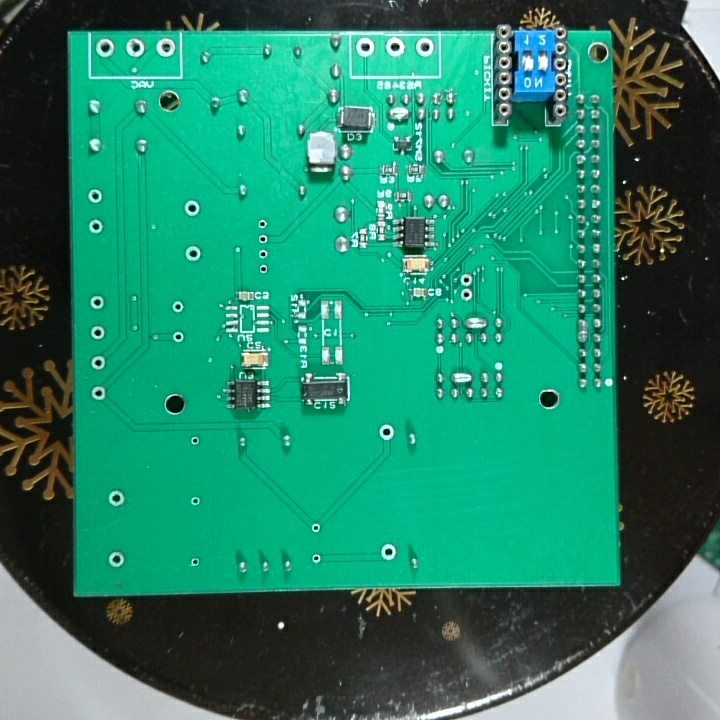F: (383, 36, 407, 59), (154, 37, 177, 60), (94, 36, 116, 60), (124, 36, 146, 60), (414, 35, 436, 59), (355, 37, 377, 59), (106, 549, 127, 571), (106, 488, 127, 509), (181, 198, 202, 219), (378, 540, 397, 563), (183, 243, 203, 264), (377, 423, 397, 443), (86, 216, 105, 237), (84, 188, 105, 205), (90, 384, 108, 403), (89, 354, 106, 373), (89, 323, 106, 342), (88, 293, 105, 312), (458, 286, 474, 303), (169, 298, 185, 315), (170, 329, 185, 346), (458, 272, 475, 286), (188, 433, 202, 449), (309, 520, 323, 535), (188, 555, 202, 570), (256, 232, 270, 247), (255, 248, 271, 261), (188, 495, 202, 509), (257, 262, 271, 276), (308, 552, 322, 565), (256, 216, 268, 231)
P: (385, 106, 412, 123), (448, 369, 474, 386), (574, 316, 589, 345), (462, 315, 488, 331)
